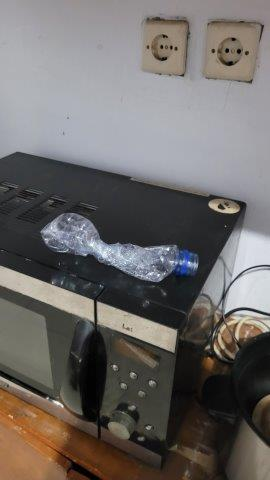botolplastik: (37, 210, 200, 283)
